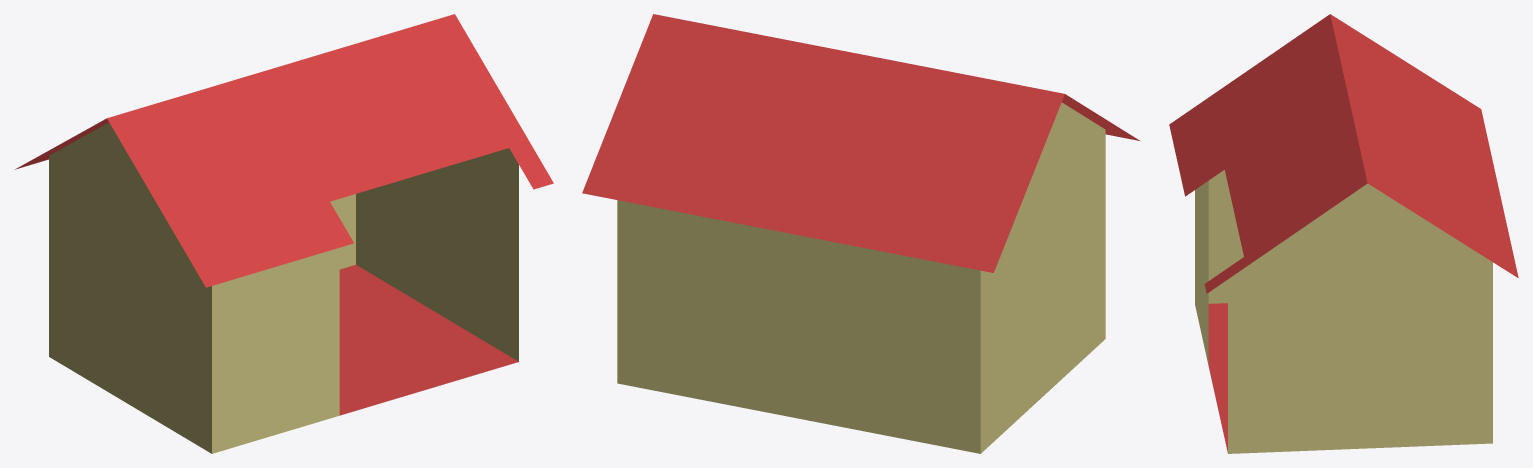
3 renders of one model, left to right at view 1: azimuth 30°, elevation 25°; view 2: azimuth 150°, elevation 25°; view 3: azimuth 270°, elevation 25°, orthographic. The views are drawn at different scales.
Size of the model in its own units: 13.65 by 11.1 by 9.63.
